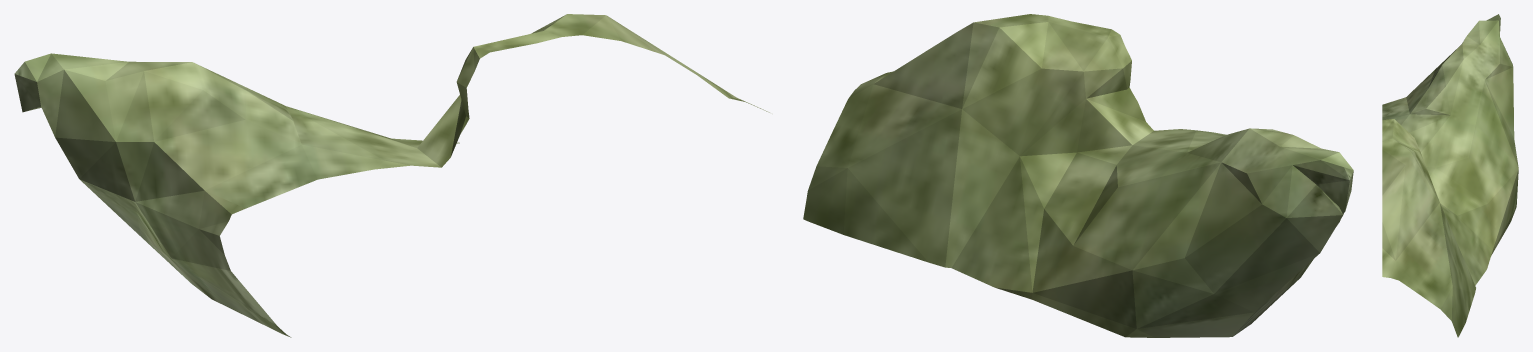
3 views of the same model, side by side, from view 1: azimuth 30°, elevation 25°; view 2: azimuth 150°, elevation 25°; view 3: azimuth 270°, elevation 25° (orthographic). The views are drawn at different scales.
Bounding box in the file's own units: 1.89 × 0.6722 × 0.5869.
1 material, 1 textured.
